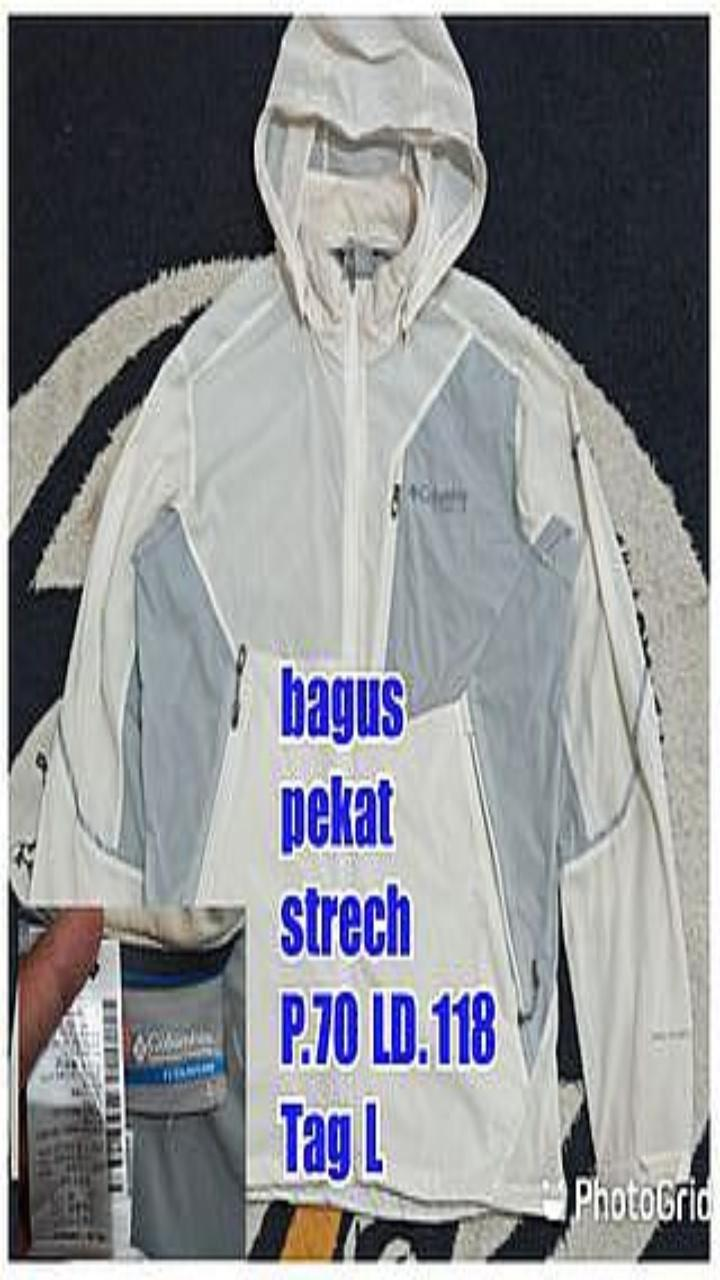Sports_Jacket: (32, 17, 691, 1217)
